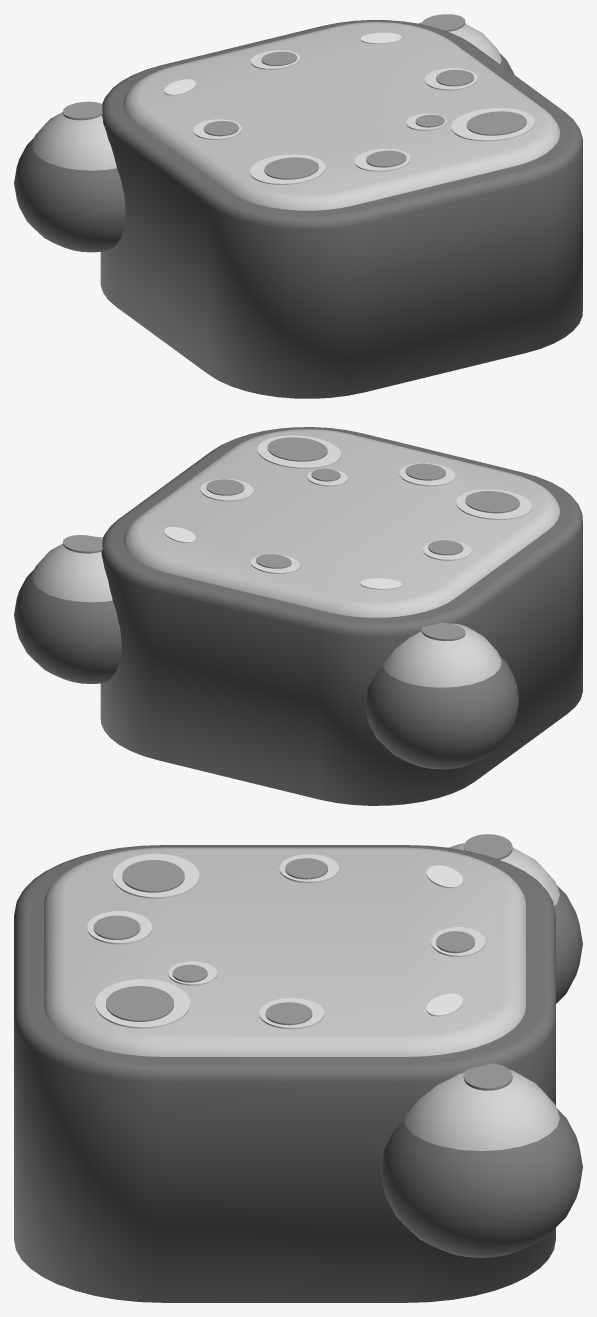
The model's file is body_estampa_lua.fbx.
The picture shows the model from 3 angles, top to bottom: view 1: azimuth 30°, elevation 25°; view 2: azimuth 150°, elevation 25°; view 3: azimuth 270°, elevation 25°; orthographic projection. The views are drawn at different scales.
Visible parts, largest first — view 1: body_estampa_lua_corpo, body_estampa_lua_mao_esq, body_estampa_lua_mao; view 2: body_estampa_lua_corpo, body_estampa_lua_mao_esq, body_estampa_lua_mao; view 3: body_estampa_lua_corpo, body_estampa_lua_mao, body_estampa_lua_mao_esq.
Part boxes in pixels (box(x1,y1,x2,y2)): body_estampa_lua_corpo: box(100, 20, 582, 398); body_estampa_lua_mao_esq: box(14, 101, 125, 252); body_estampa_lua_mao: box(418, 14, 514, 74); body_estampa_lua_corpo: box(100, 427, 582, 805); body_estampa_lua_mao_esq: box(365, 622, 519, 769); body_estampa_lua_mao: box(14, 535, 121, 683); body_estampa_lua_corpo: box(14, 845, 555, 1302); body_estampa_lua_mao: box(380, 1063, 582, 1257); body_estampa_lua_mao_esq: box(449, 834, 582, 1003).
Size of the model in its own units: 5.4 by 2.03 by 4.2.
Materials: 1 (1 with a texture image).
